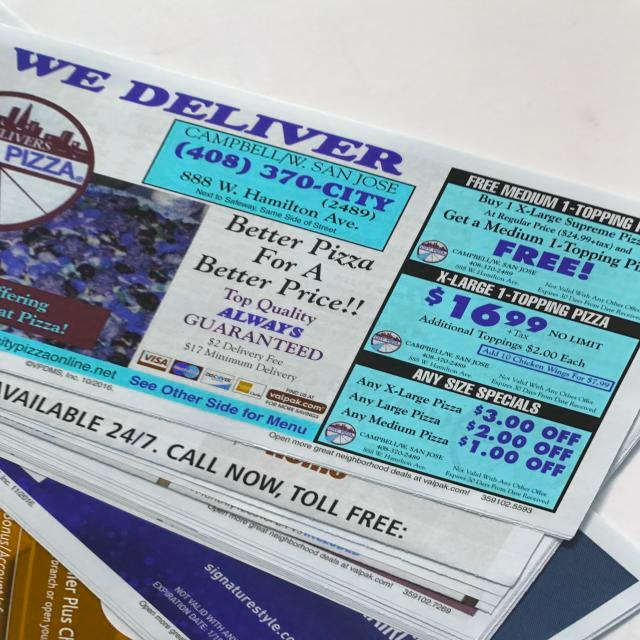paper: (3, 13, 640, 640)
